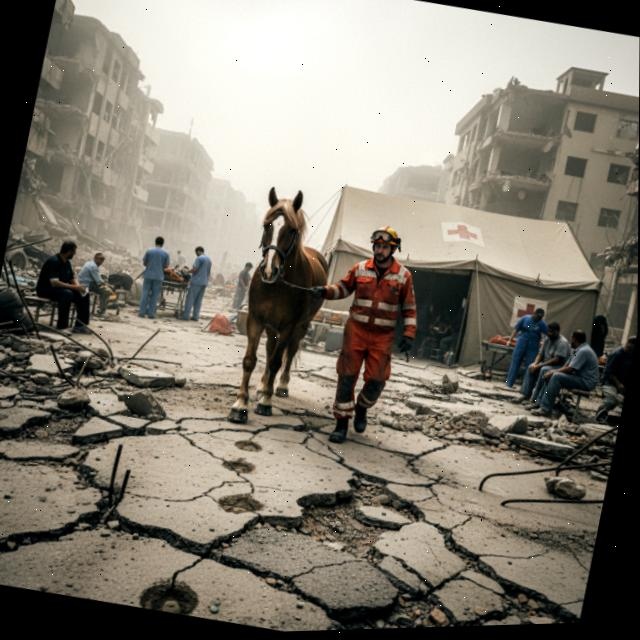civilian: (25, 228, 106, 340), (531, 320, 611, 431), (515, 310, 577, 418), (494, 296, 555, 400), (124, 230, 180, 334), (585, 323, 637, 426), (71, 240, 127, 328), (172, 239, 218, 333), (224, 255, 259, 322), (171, 245, 189, 271)
horse: (204, 174, 352, 436)
rescuer: (293, 201, 442, 466)
